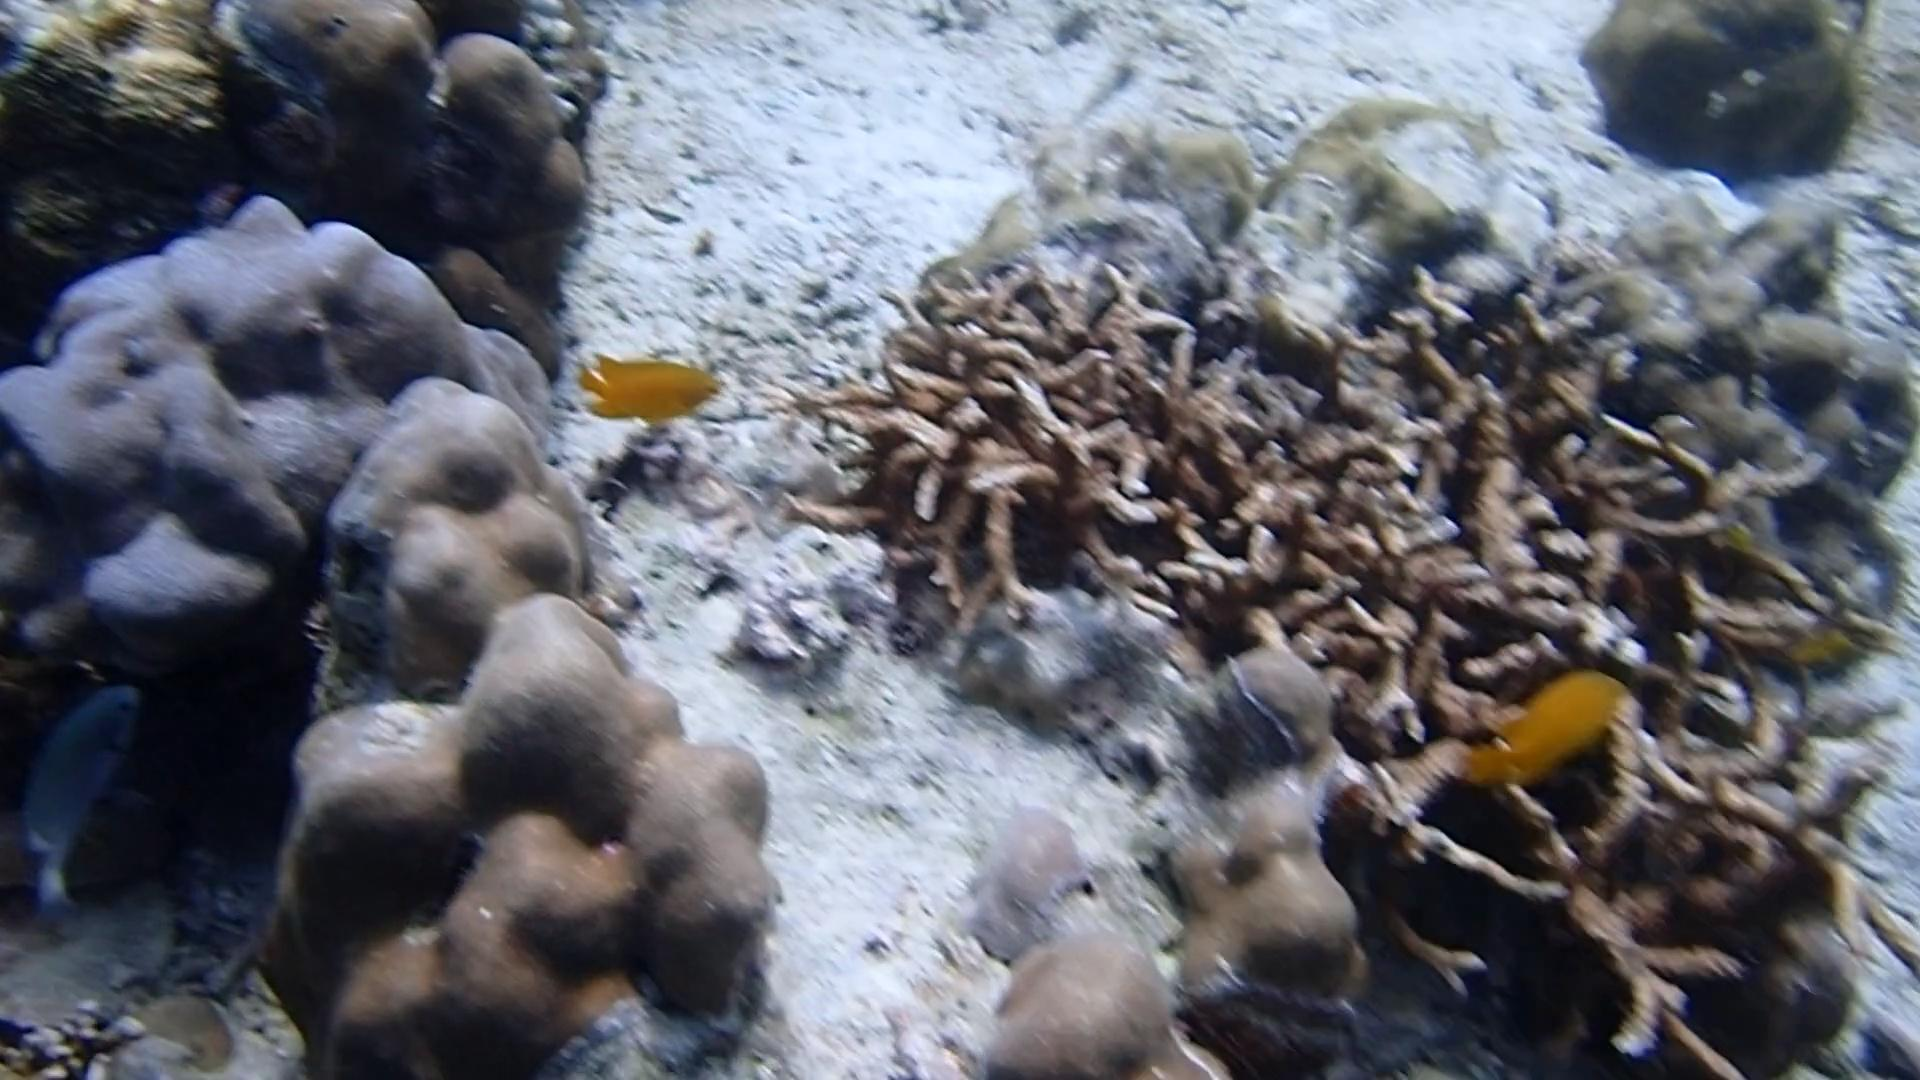Blue Fish Two: (13, 674, 148, 924)
Yellow Fish: (1455, 663, 1627, 799), (570, 344, 725, 436)
